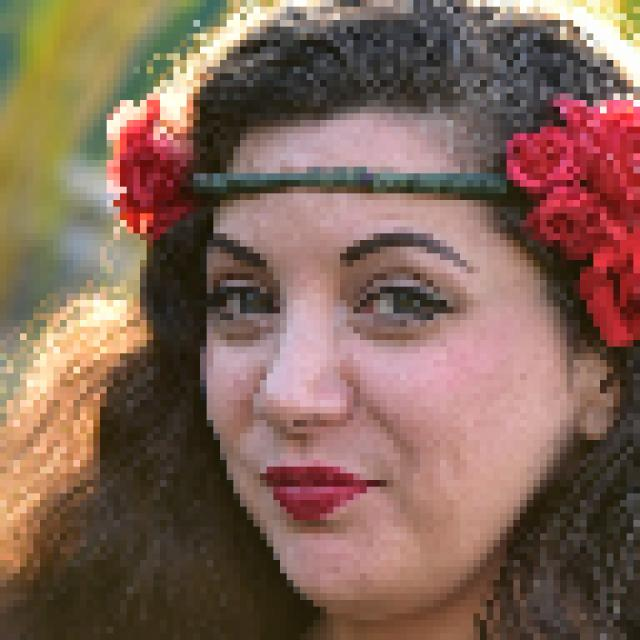happy: (147, 80, 620, 640)
